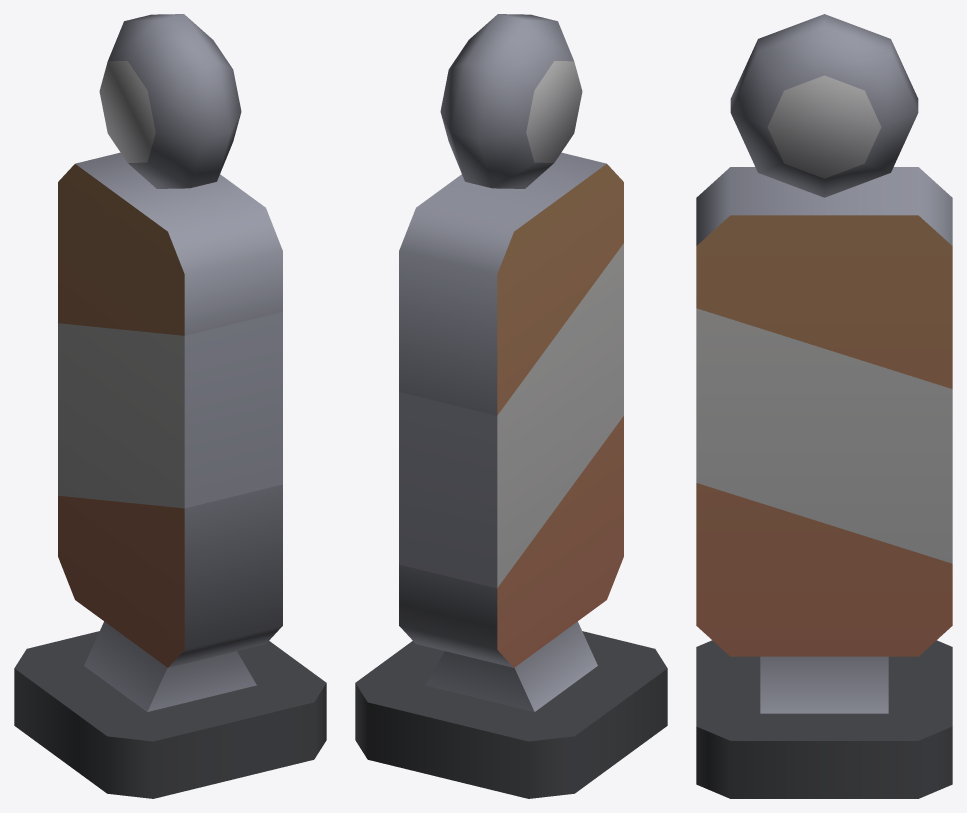
The model's file is construction_light.glb.
3 renders of one model, left to right at view 1: azimuth 30°, elevation 25°; view 2: azimuth 150°, elevation 25°; view 3: azimuth 270°, elevation 25°, orthographic.
Visible parts, largest first — view 1: construction-light; view 2: construction-light; view 3: construction-light.
Boxes of the visible parts, box(x1,y1,x2,y2) form: construction-light: box(14, 14, 326, 798); construction-light: box(355, 14, 667, 798); construction-light: box(696, 14, 952, 798).
Size of the model in its own units: 0.6 by 1.87 by 0.6.
1 material, 1 textured.
